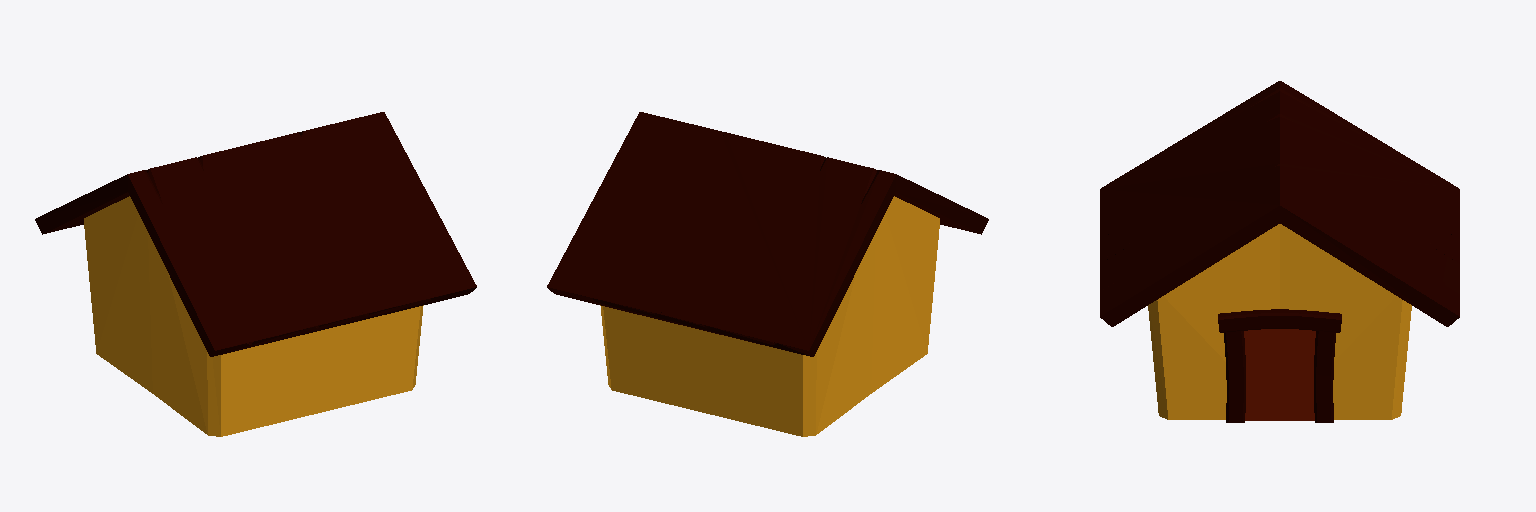
The model's file is House.obj.
3 renders of one model, left to right at view 1: azimuth 30°, elevation 25°; view 2: azimuth 150°, elevation 25°; view 3: azimuth 270°, elevation 25°, orthographic.
Parts seen in each view (by area): view 1: casa_Cube.001; view 2: casa_Cube.001; view 3: casa_Cube.001.
Boxes of the visible parts, x1=… form: casa_Cube.001: x1=35, y1=112, x2=476, y2=436; casa_Cube.001: x1=547, y1=112, x2=988, y2=436; casa_Cube.001: x1=1100, y1=81, x2=1459, y2=422.
Bounding box in the file's own units: 2.57 × 2.13 × 3.06.